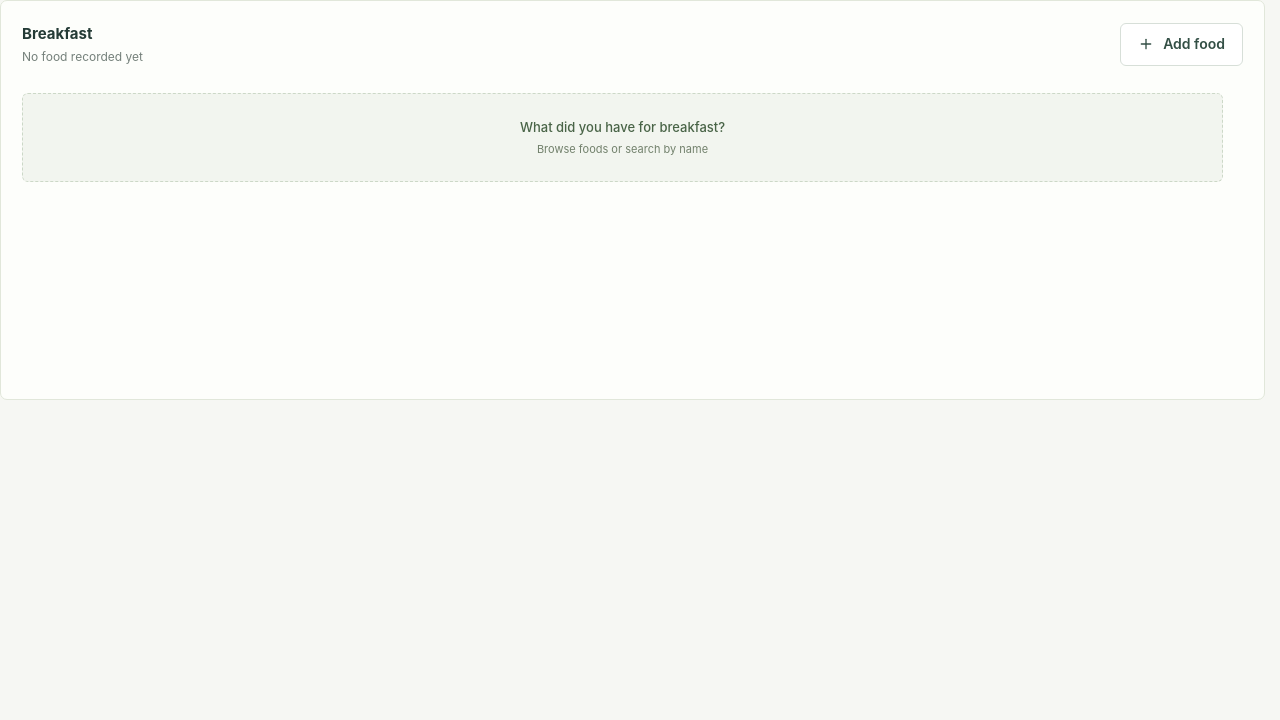
Test case: adds directly from search, adjusts portions and removes the food
Later steps or results of the test are not shown.
Click the button "Add food". click: (1182, 44)
box: [1120,23,1243,66]
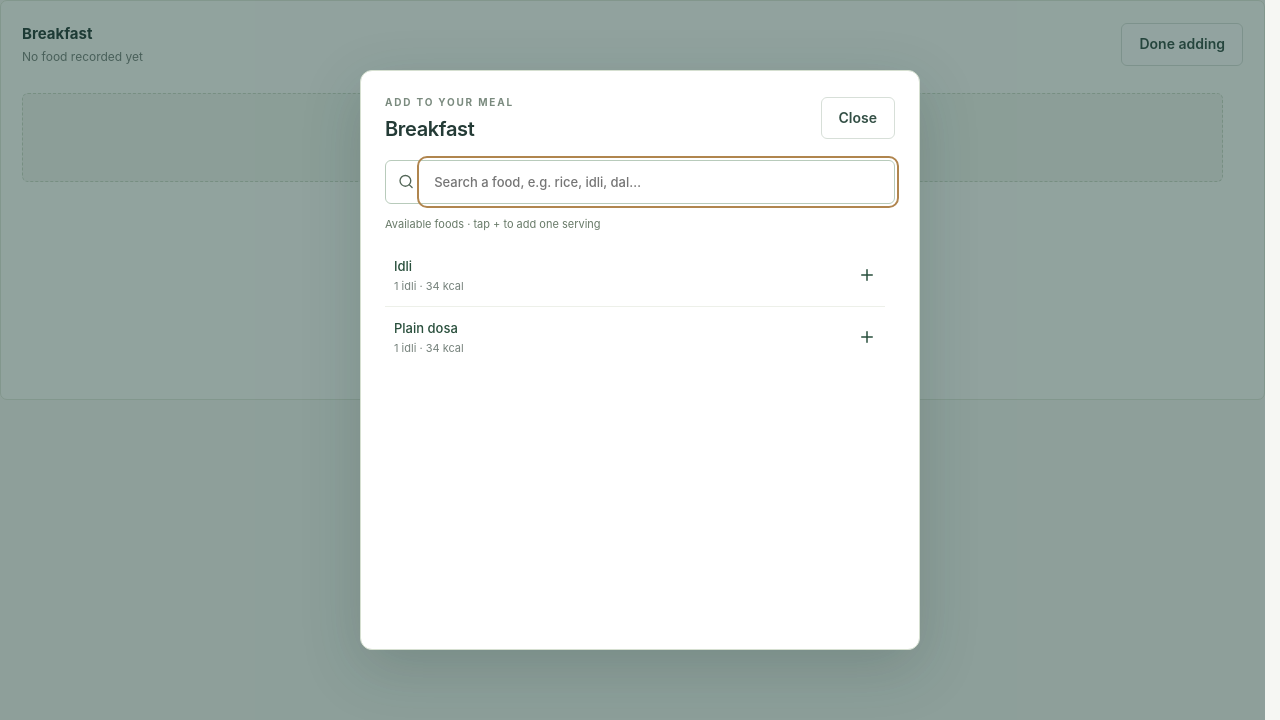
Type "idli" into the search field. click: (658, 182)
box: [422,160,894,203]
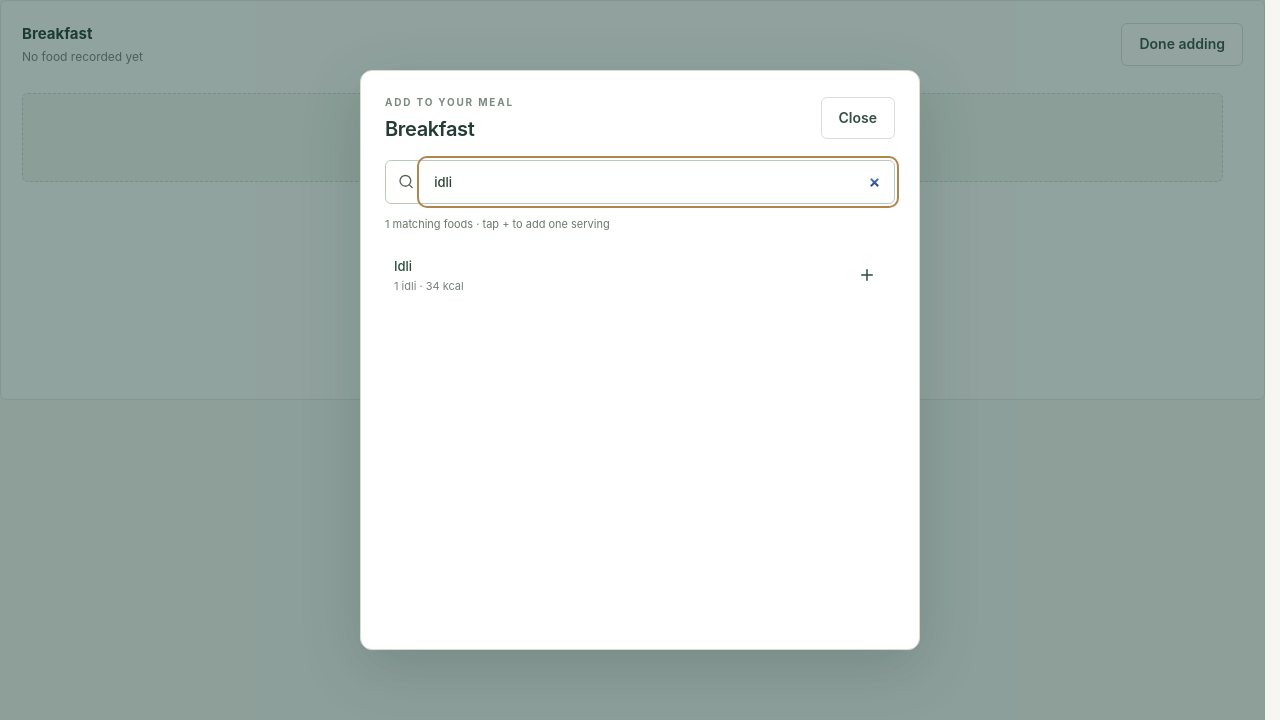
Click the button with aria-label "Add Idli to breakfast". click: (403, 266)
box: [385,245,885,306]
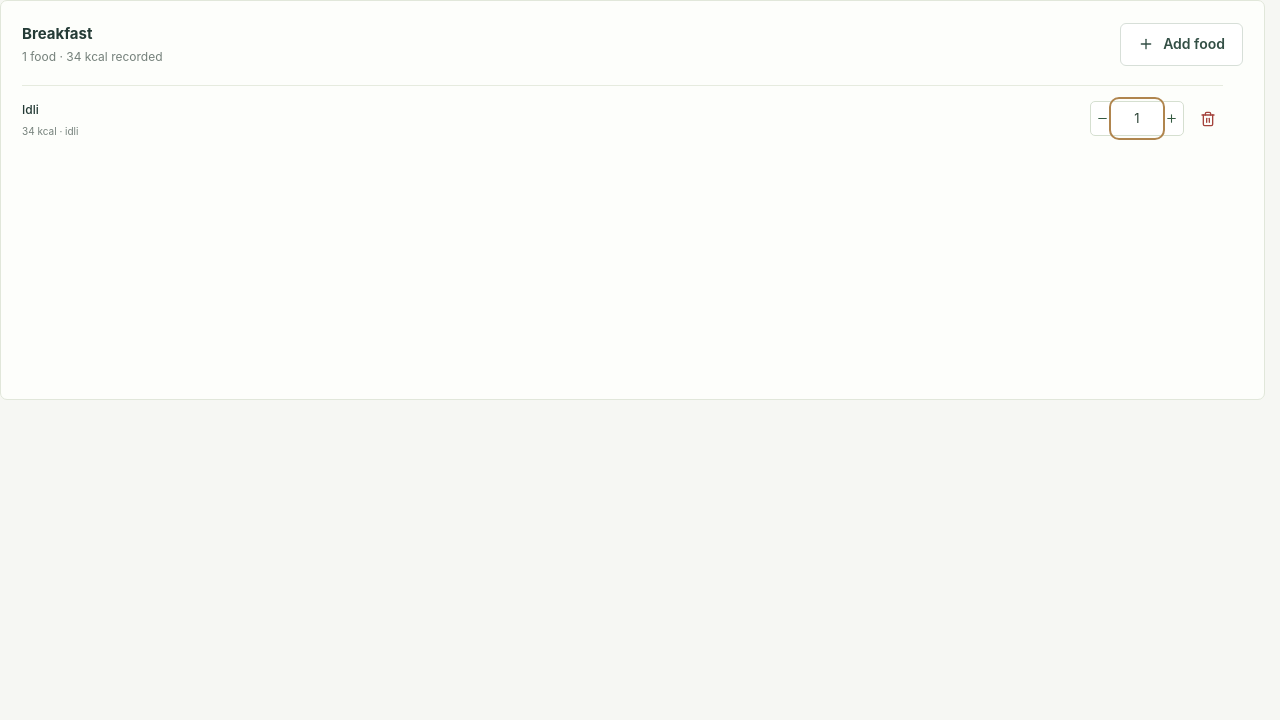
Now the number field named "Servings of Idli" holds "1", box [1114,102,1160,135]
Click the button named "Increase Idli". click: (1172, 118)
box: [1160,105,1183,132]
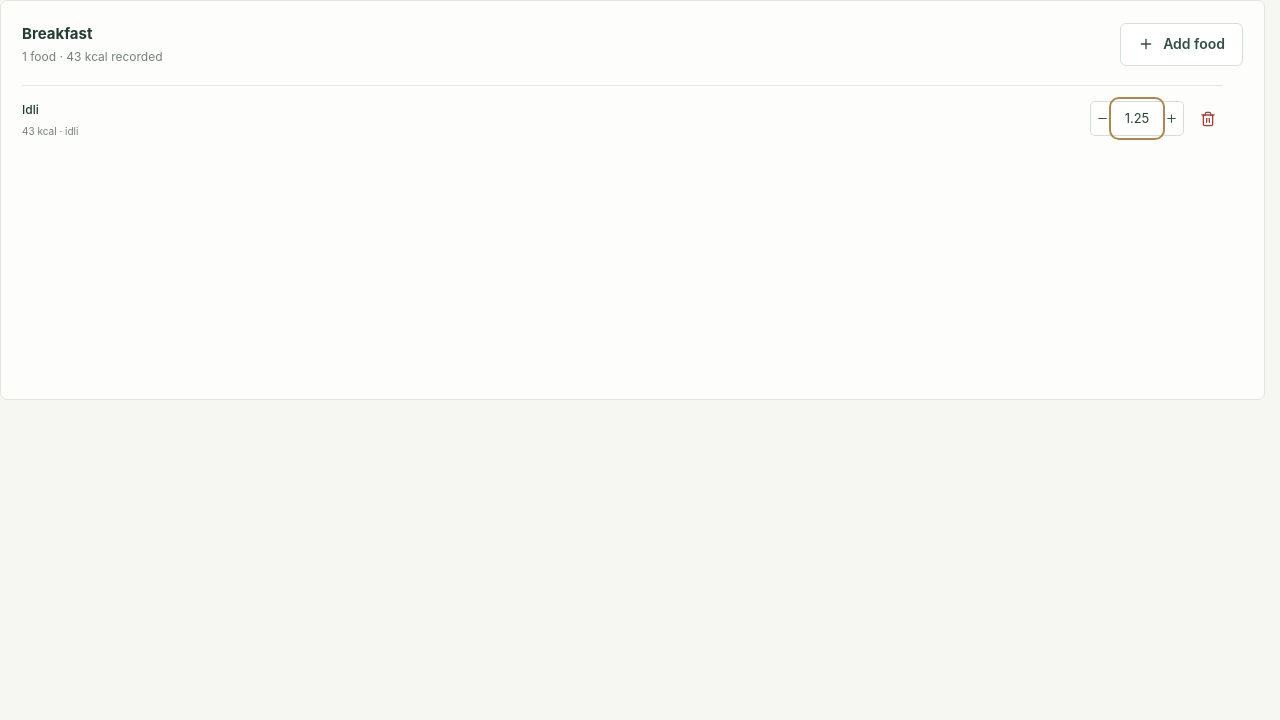
Now the number field named "Servings of Idli" holds "1.25", box [1114,102,1160,135]
